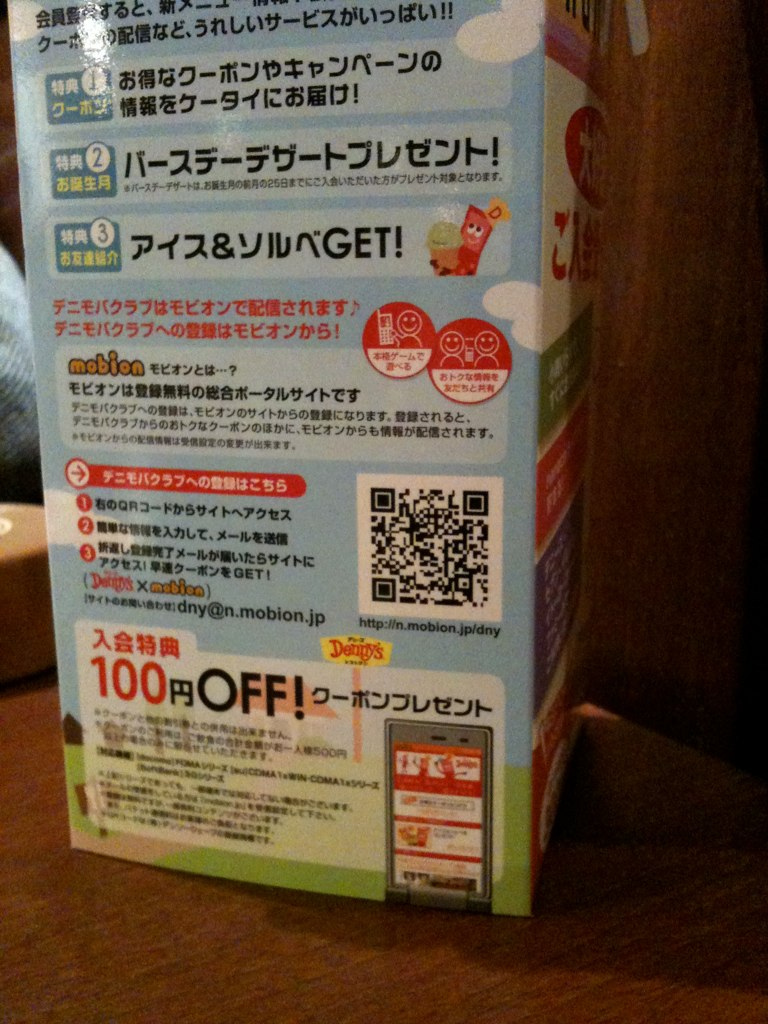QR-CODE: (370, 487, 488, 607)
